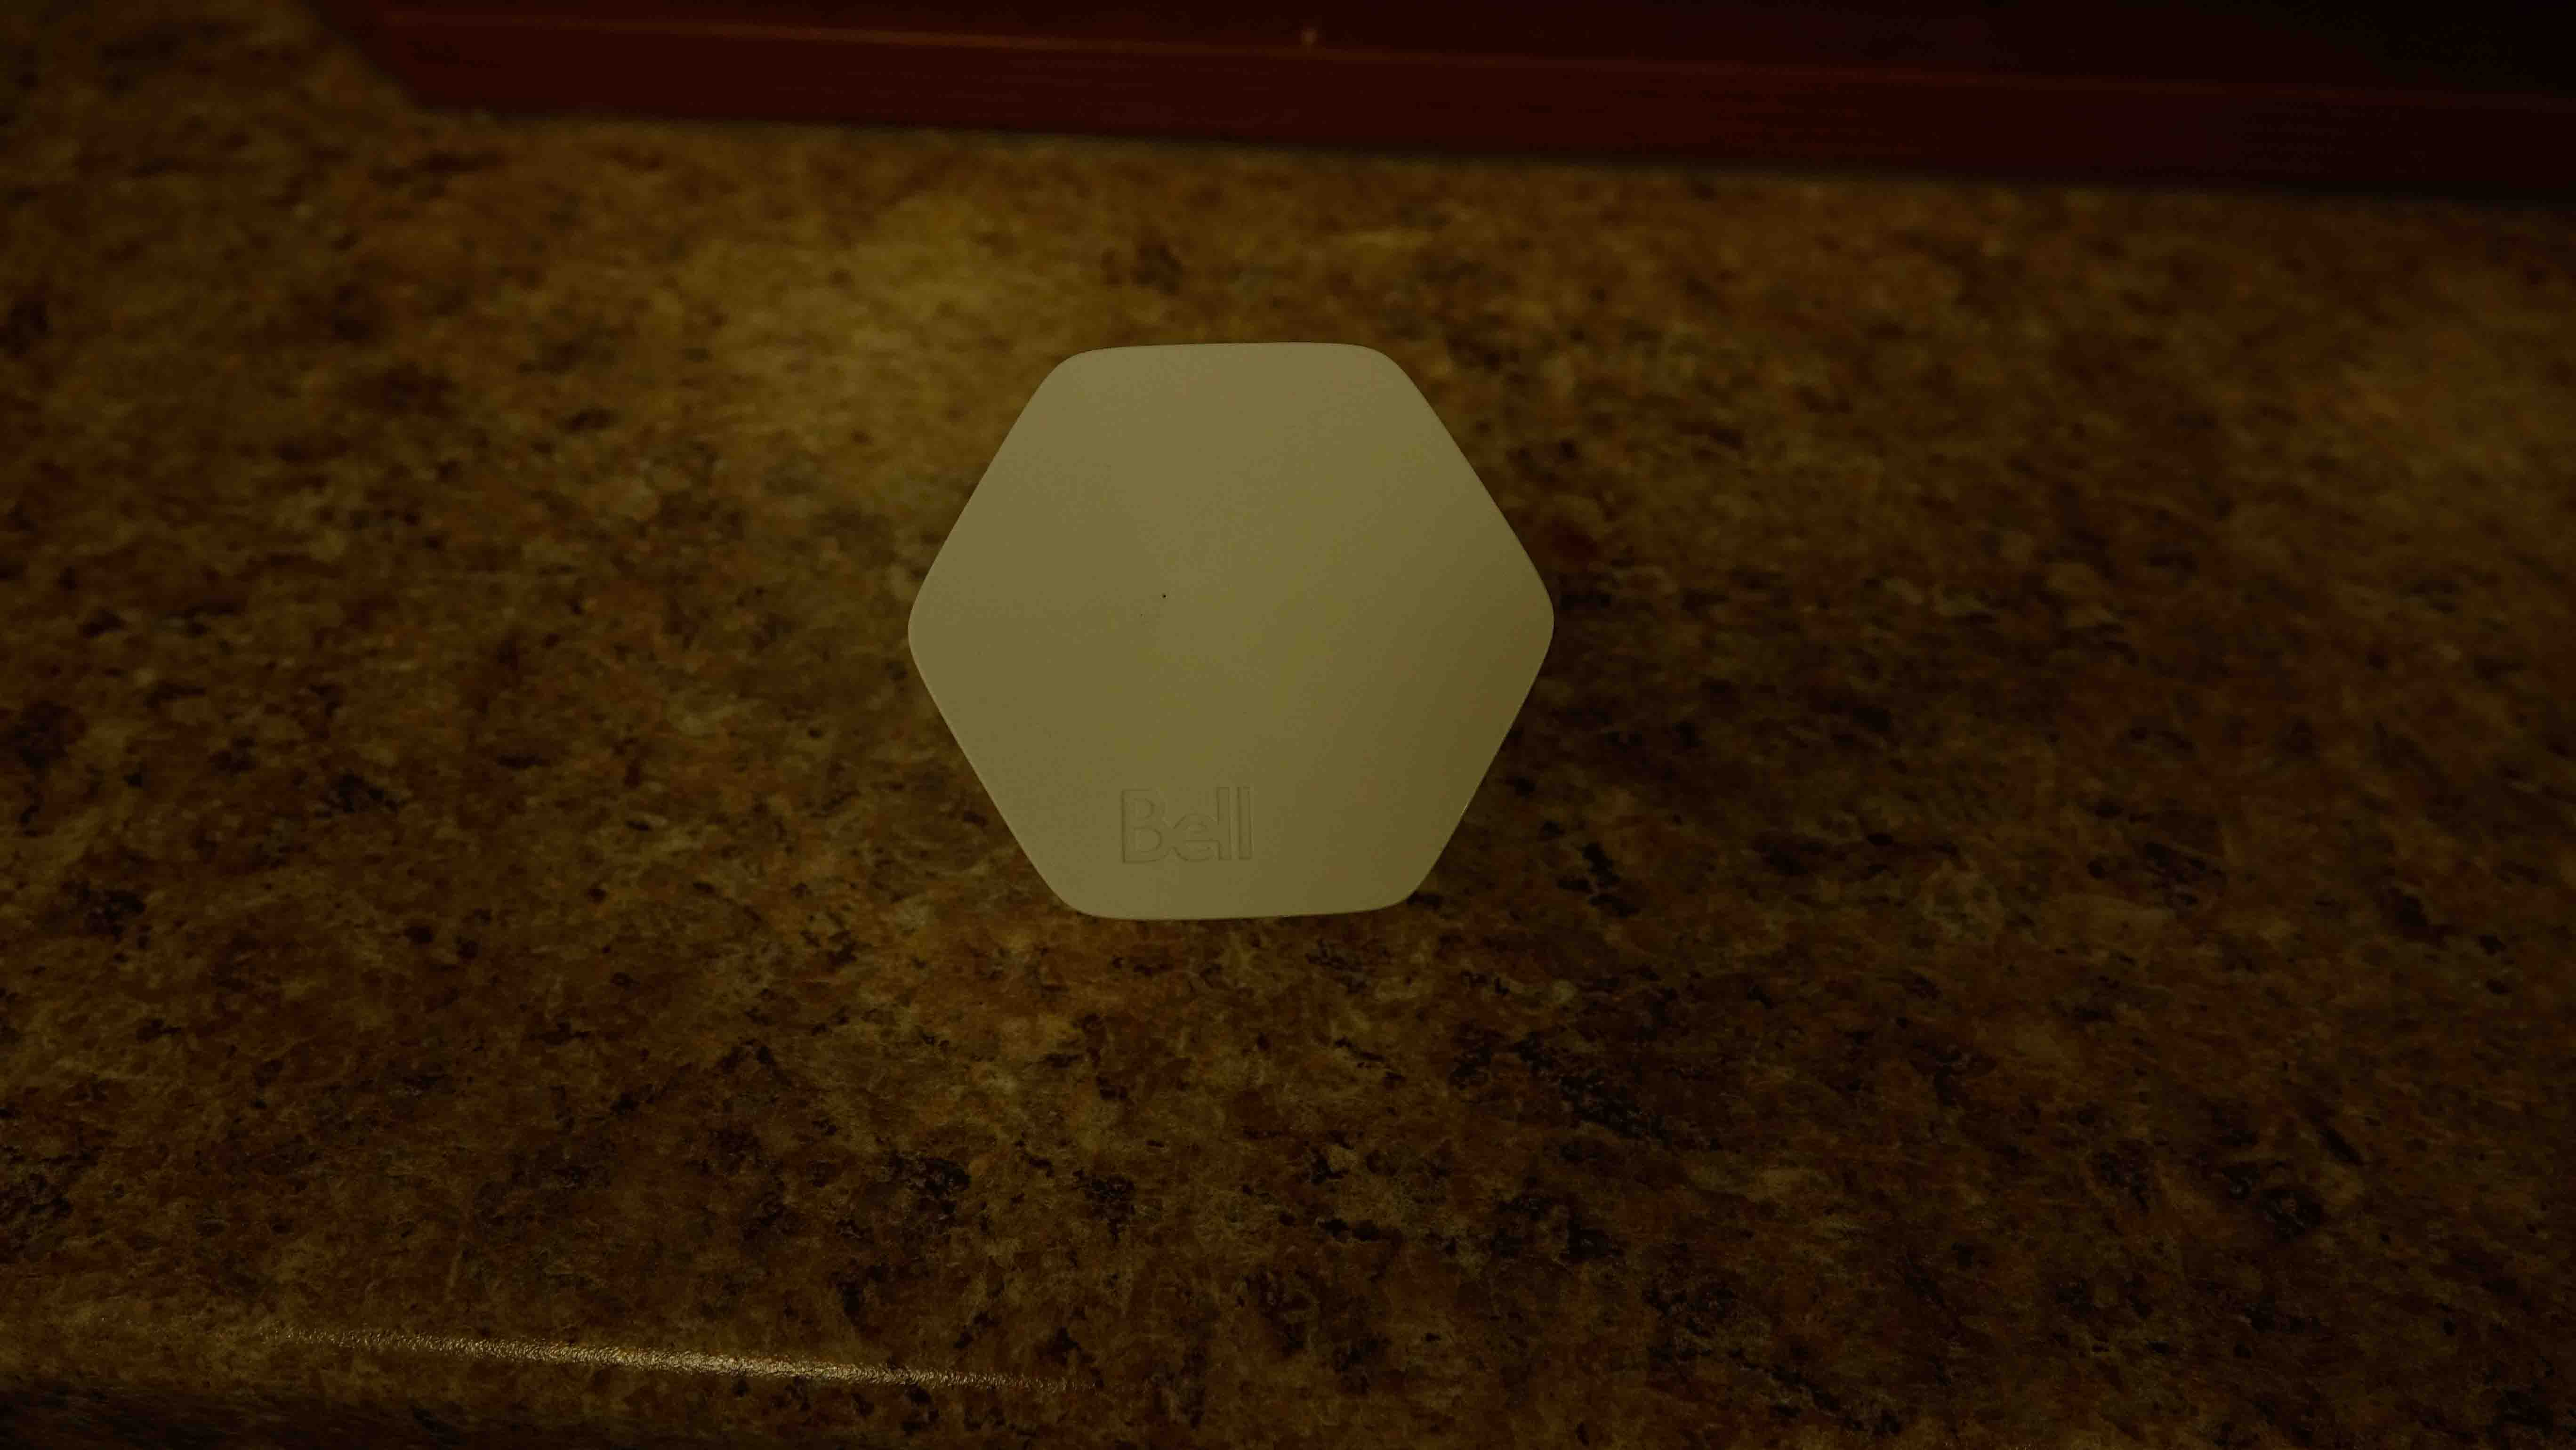pod: (895, 340, 1568, 934)
